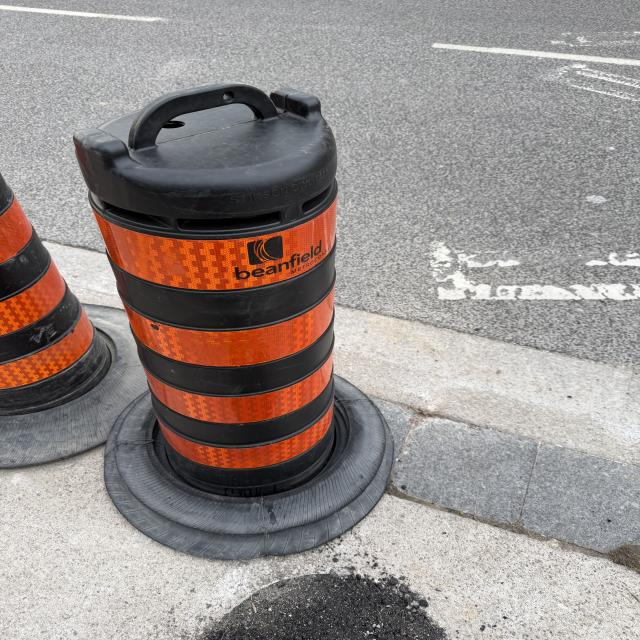Teraffic Barrel: (75, 83, 392, 558), (0, 176, 144, 468)
